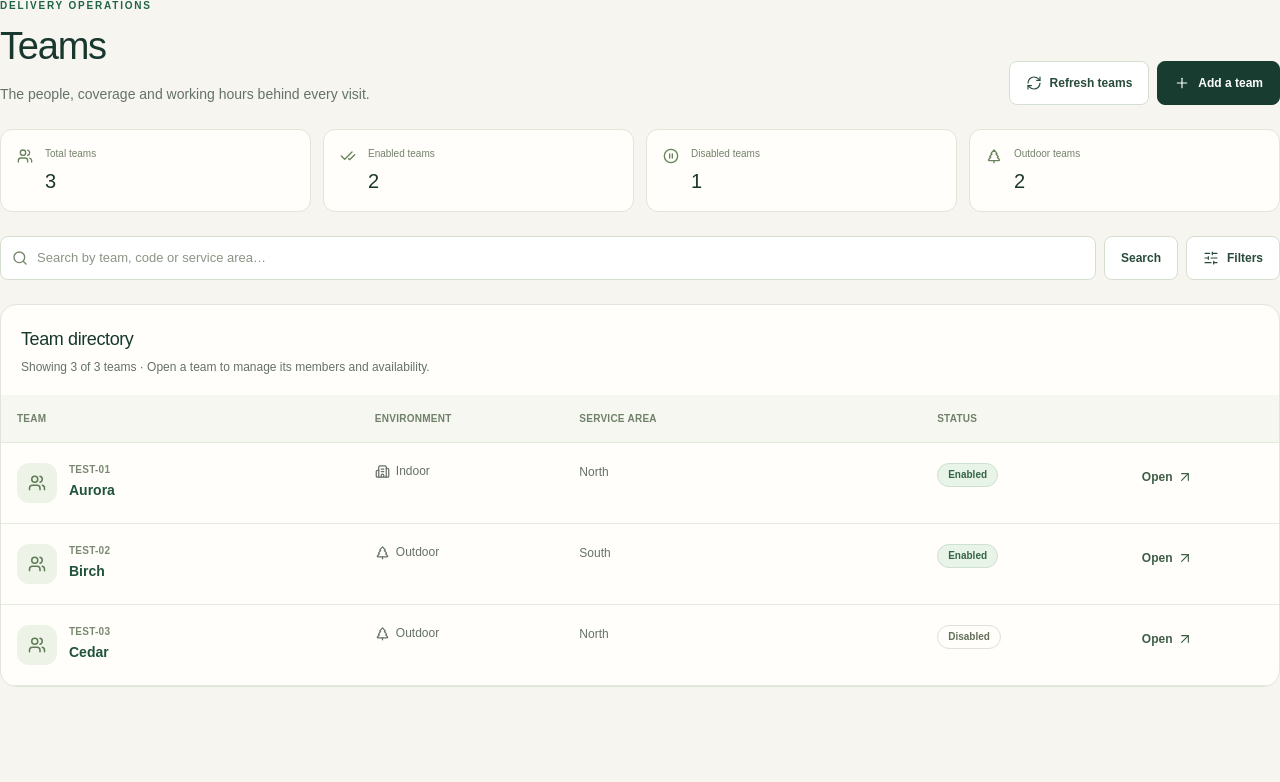
Scenario: modern team directory › prevents closing a pending create by Escape or close button, then displays the persisted team
This screenshot has width=1280, height=782.
Expected: the table named "Teams" is shown, [1,394,1279,686]
Click the button "Add a team": (1219, 83) [1157,61,1279,105]
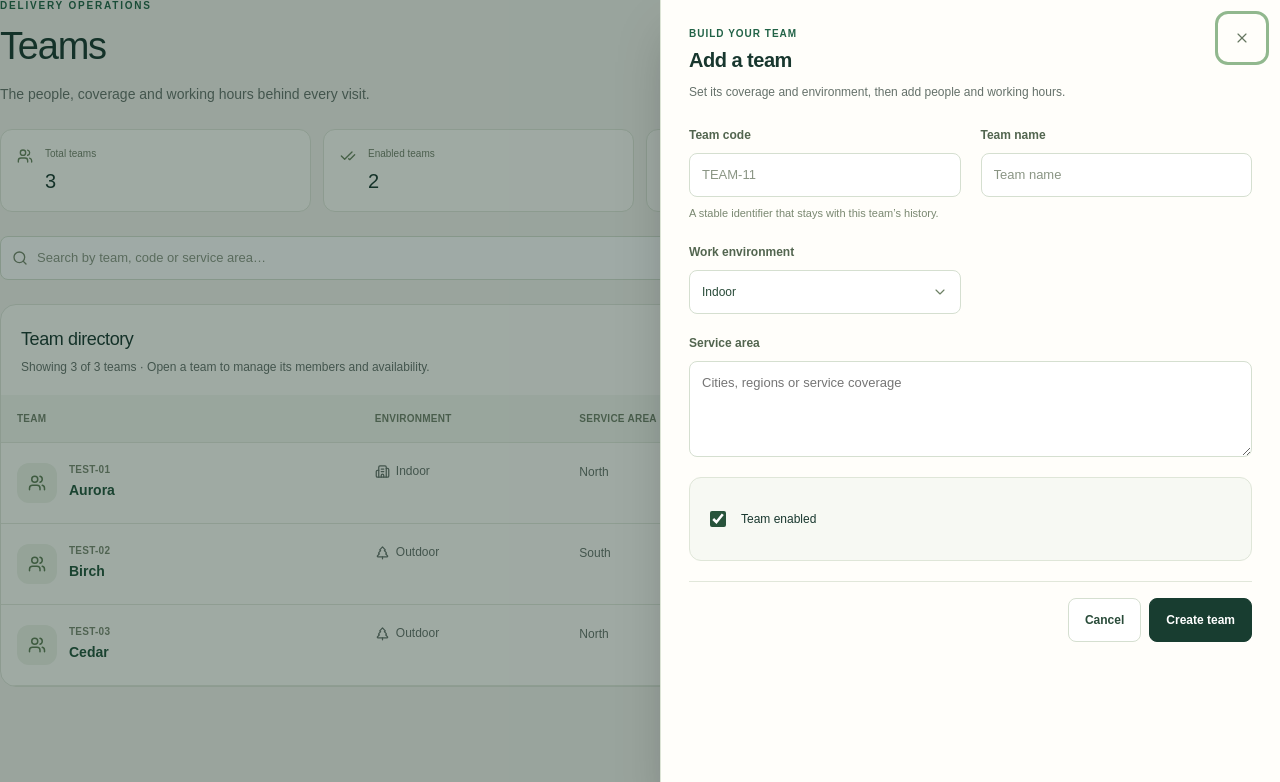
In the field labelled "Team code": (825, 175) [689,153,960,197], type "TEST-11"
In the field labelled "Team name": (1116, 175) [980,153,1252,197], type "Synthetic new team"
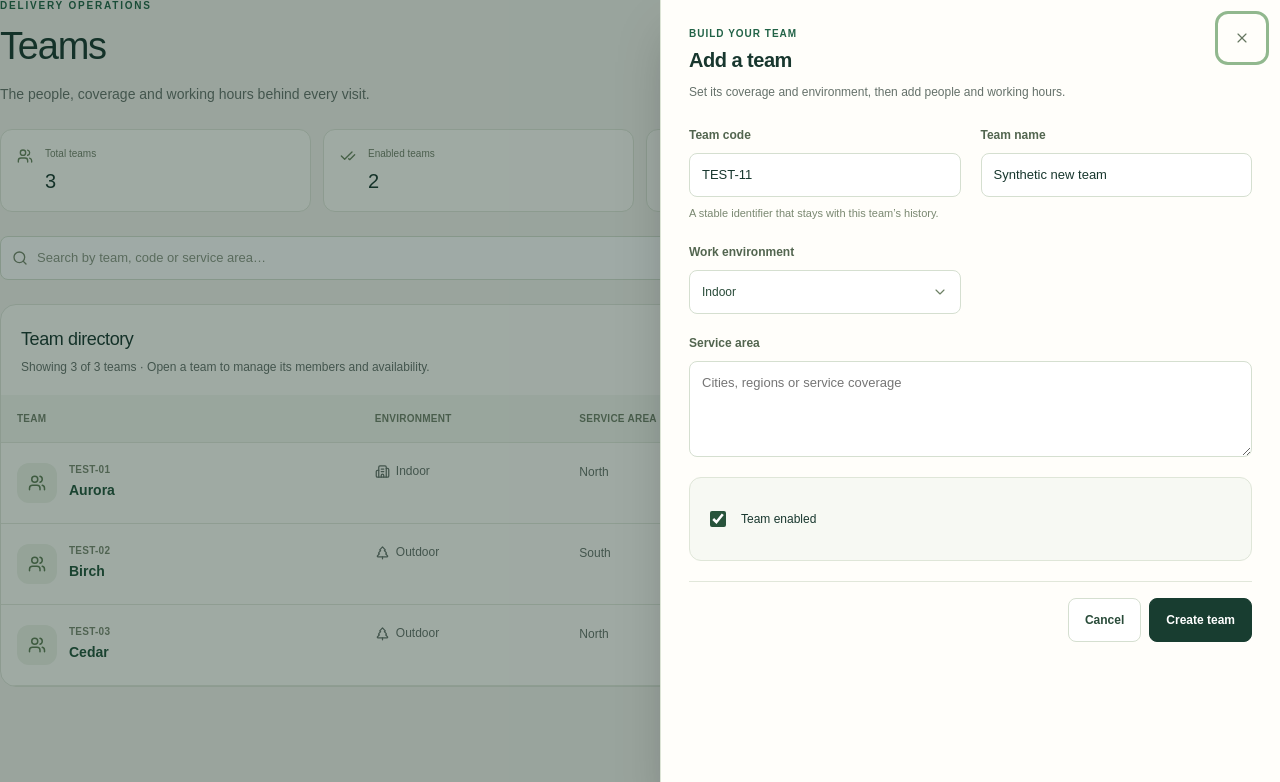
Select "Outdoor" in the dropdown labelled "Work environment": (825, 292) [689,270,960,314]
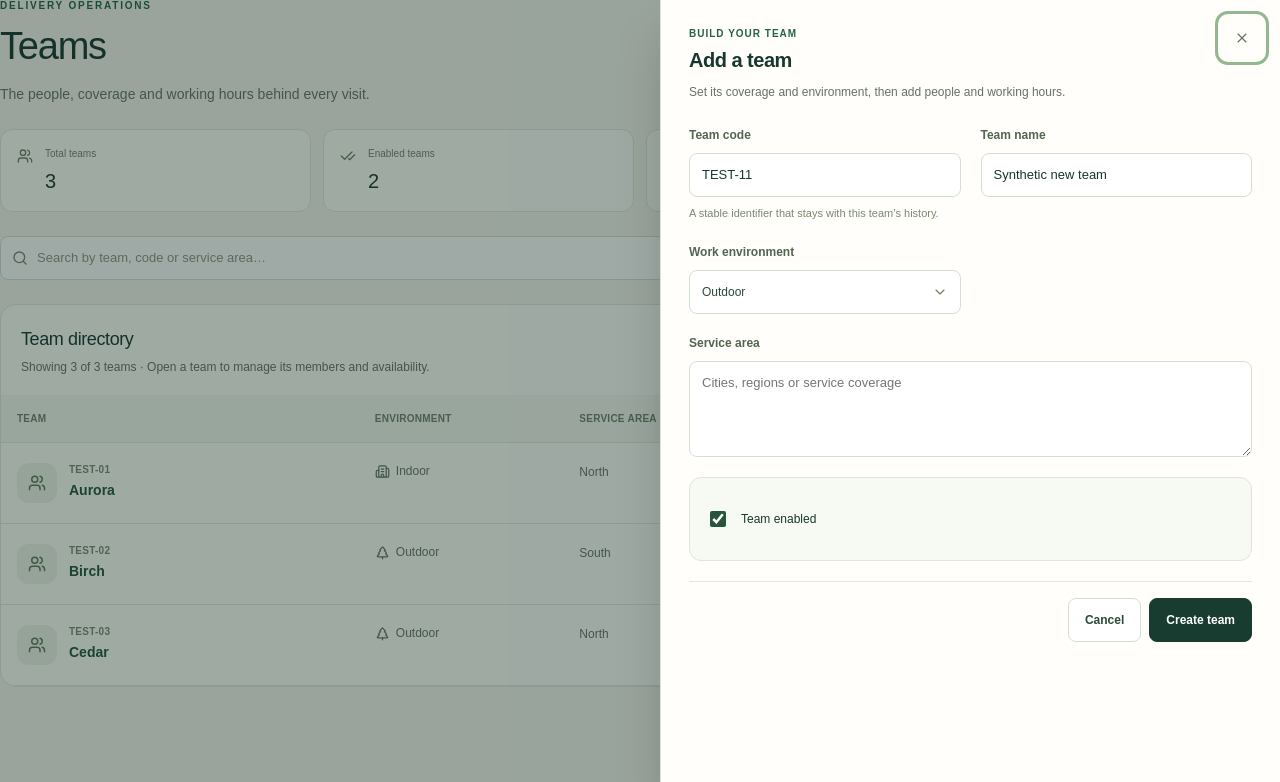
In the text box labelled "Service area": (970, 409) [689,361,1252,457], type "West"
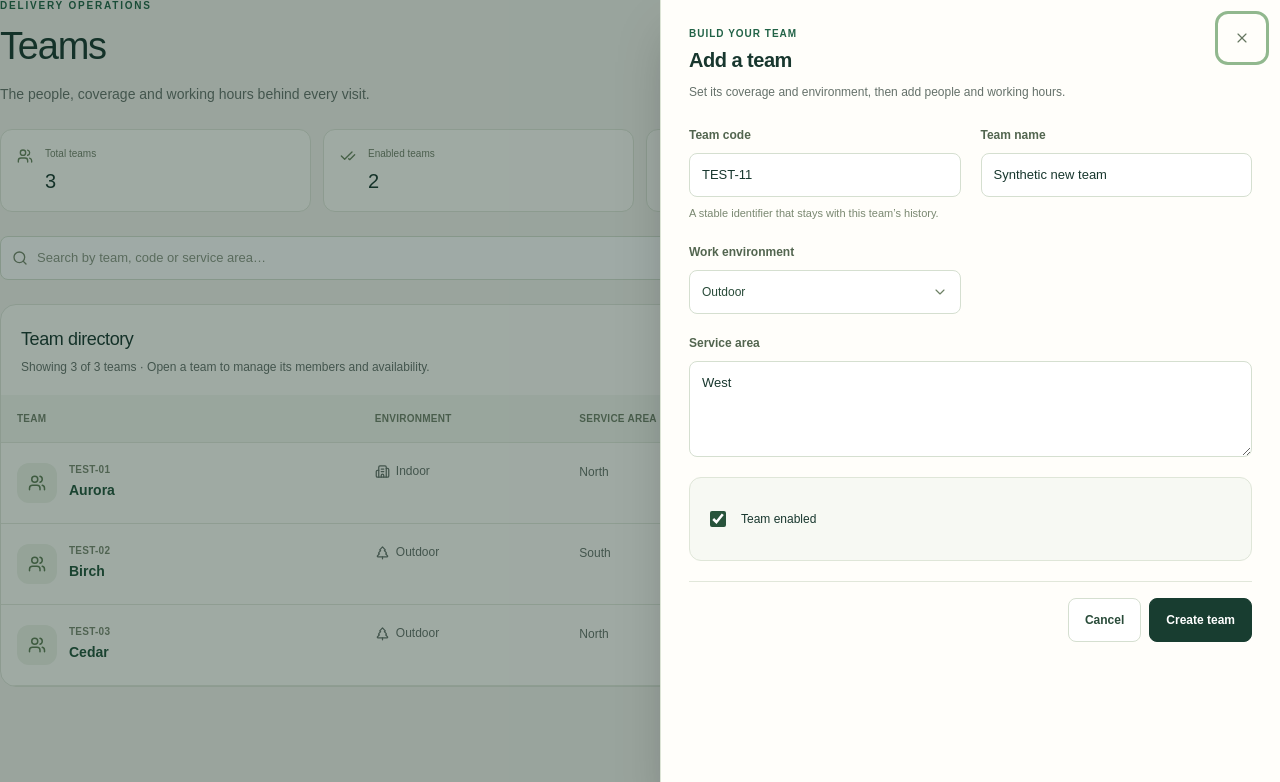
Submit the form named "Create team", box [689,126,1252,642]
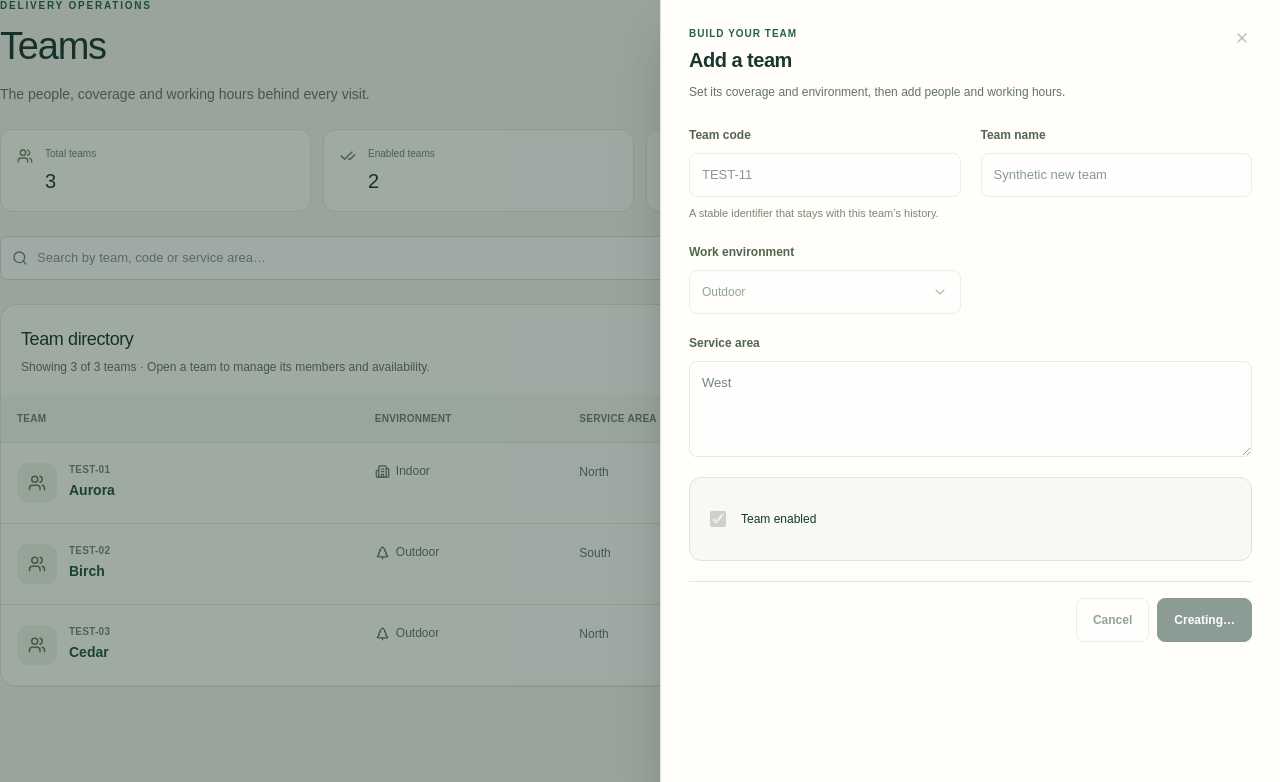
Now the button "Creating…" is disabled, box [1157,598,1252,642]
Now the button named "Close add team" is disabled, box [1220,16,1264,60]
Now the button "Cancel" is disabled, box [1076,598,1149,642]
Press Escape
Click the button named "Close add team": (1242, 38) [1220,16,1264,60]
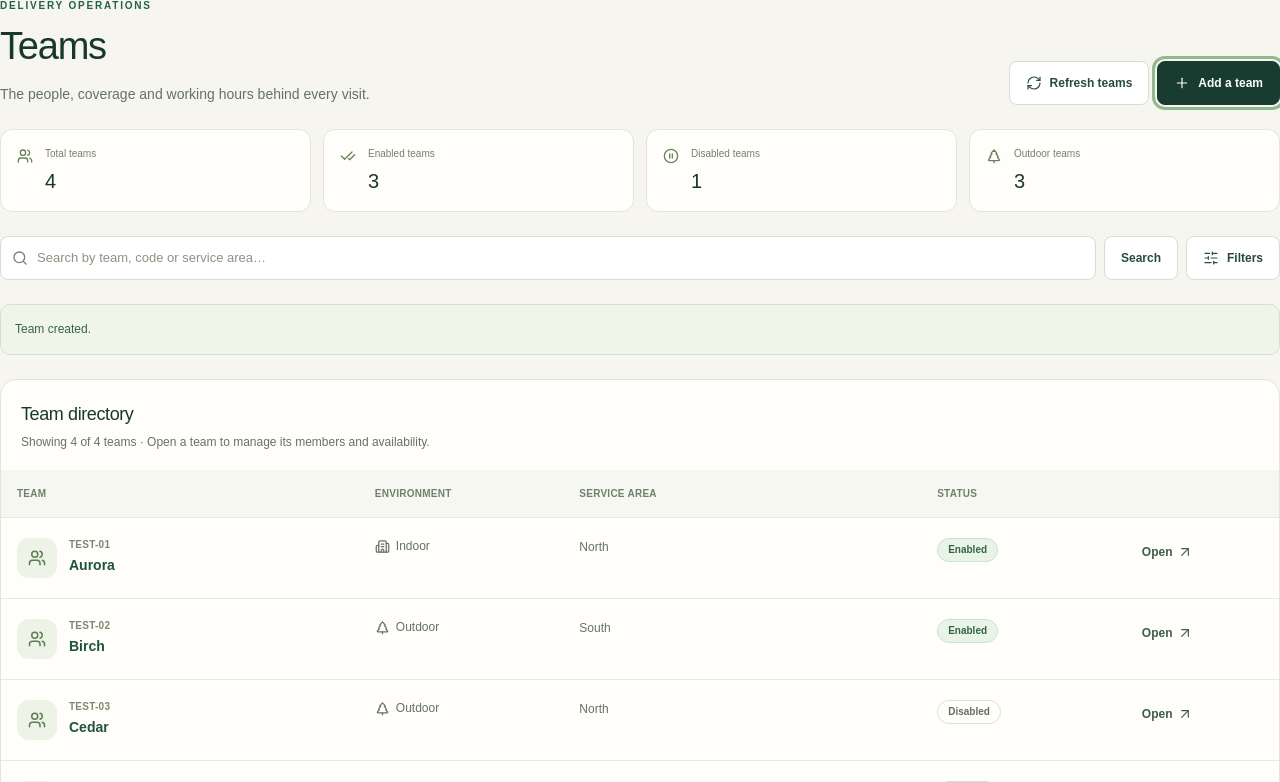
Now the text "Team created." is shown, box [0,304,1279,354]
Now the text "4" is shown, box [45,170,56,192]
